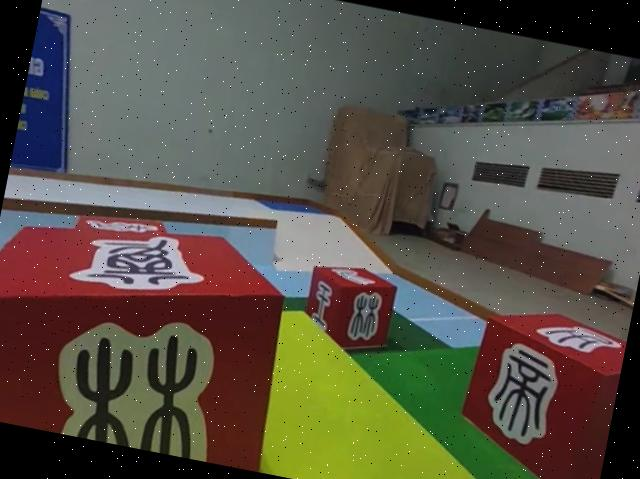R2 Fake: (0, 183, 312, 473), (448, 291, 630, 479), (297, 255, 400, 358)
